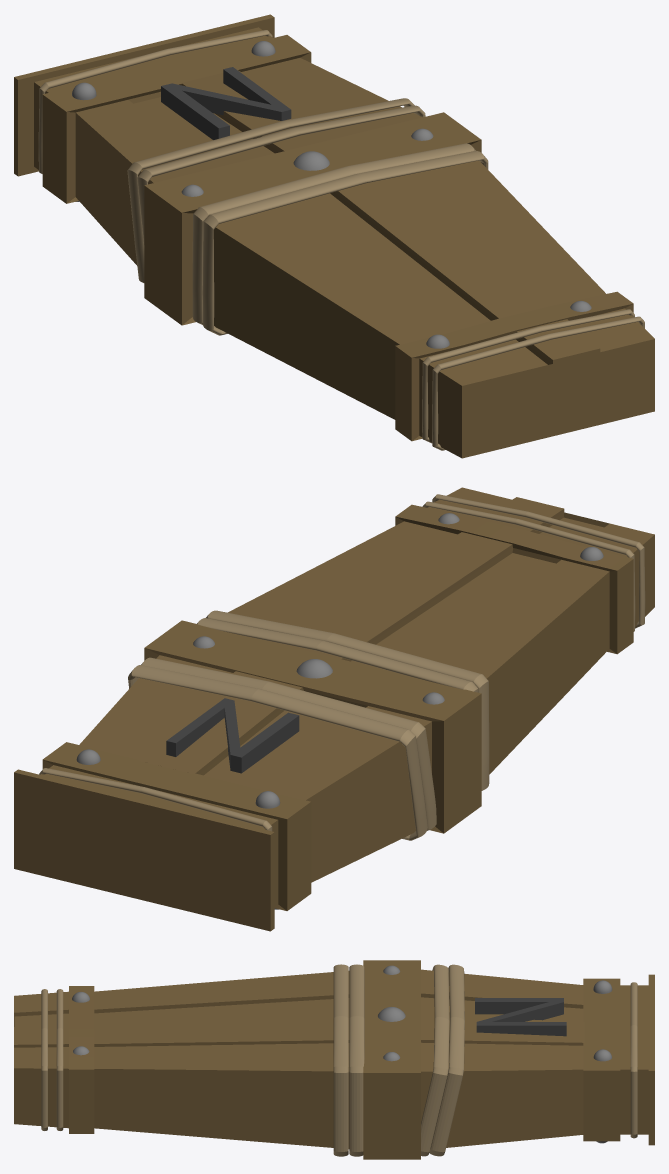
File: coffin with letter N.fbx
The picture shows the model from 3 angles, top to bottom: view 1: azimuth 30°, elevation 25°; view 2: azimuth 150°, elevation 25°; view 3: azimuth 270°, elevation 25°; orthographic projection. The views are drawn at different scales.
Visible parts, largest first — view 1: bottom_bolt_06; view 2: bottom_bolt_06; view 3: bottom_bolt_06.
Boxes of the visible parts, box(x1,y1,x2,y2) form: bottom_bolt_06: box(14, 14, 654, 458); bottom_bolt_06: box(14, 487, 654, 931); bottom_bolt_06: box(14, 960, 654, 1159).
Bounding box in the file's own units: 3.56 × 1.5 × 8.56.
